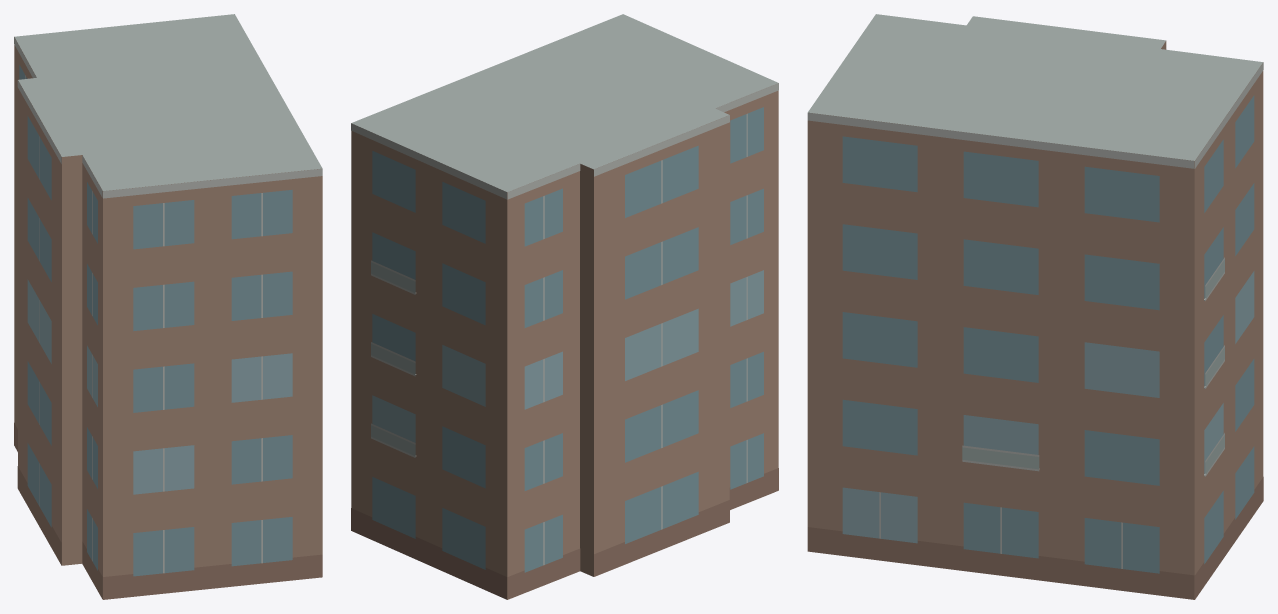
File: survey-upis-32768360.glb
The picture shows the model from 3 angles, left to right: view 1: azimuth 30°, elevation 25°; view 2: azimuth 150°, elevation 25°; view 3: azimuth 270°, elevation 25°; orthographic projection. The views are drawn at different scales.
Parts seen in each view (by area): view 1: survey-upis-32768360.tmp; view 2: survey-upis-32768360.tmp; view 3: survey-upis-32768360.tmp.
Part boxes in pixels (x1,y1,x2,y2): survey-upis-32768360.tmp: (14,14,322,599); survey-upis-32768360.tmp: (351,14,778,599); survey-upis-32768360.tmp: (807,14,1263,599).
Bounding box in the file's own units: 9.63 × 13.4 × 12.62.
